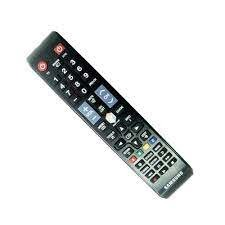remote control: (15, 29, 197, 210)
